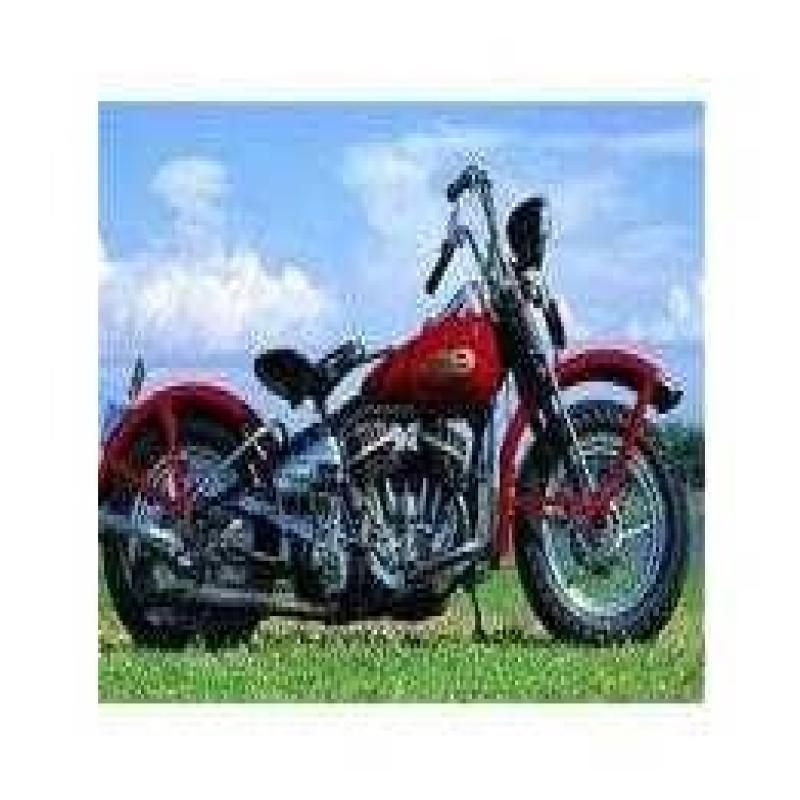bike: (108, 146, 679, 666)
